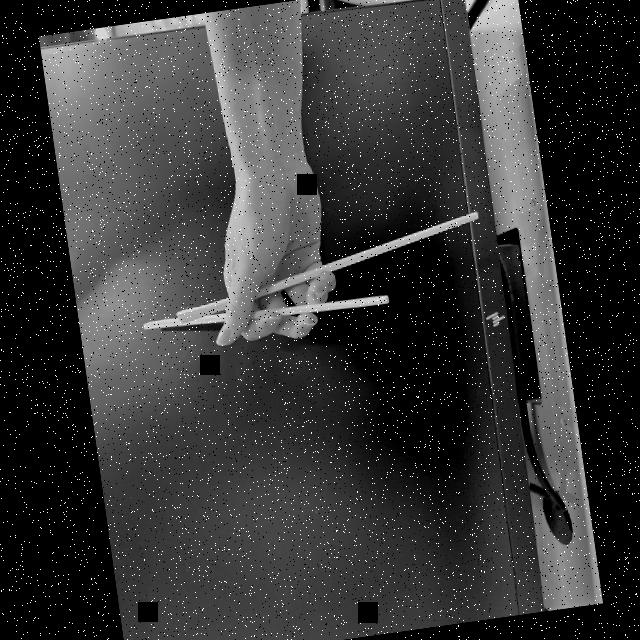stick: (137, 247, 396, 342)
